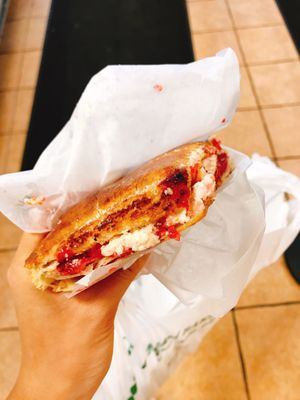soup: (23, 138, 239, 297)
